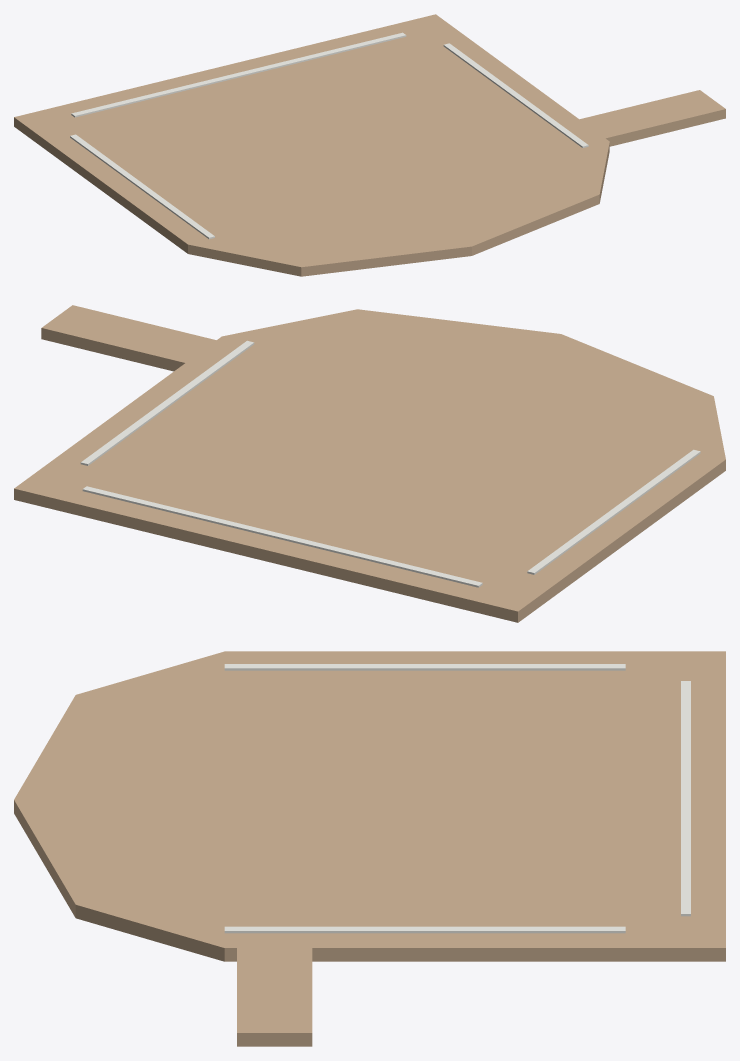
The model's file is prop-pouch-panel-blank.fbx.
The picture shows the model from 3 angles, top to bottom: view 1: azimuth 30°, elevation 25°; view 2: azimuth 150°, elevation 25°; view 3: azimuth 270°, elevation 25°; orthographic projection. The views are drawn at different scales.
Visible parts, largest first — view 1: prop-pouch-panel-blank; view 2: prop-pouch-panel-blank; view 3: prop-pouch-panel-blank.
Part boxes in pixels (left/top/right/bottom): prop-pouch-panel-blank: left=14, top=14, right=725, bottom=276; prop-pouch-panel-blank: left=14, top=305, right=725, bottom=622; prop-pouch-panel-blank: left=14, top=651, right=725, bottom=1046.
Size of the model in its own units: 18 by 0.35 by 14.2.
